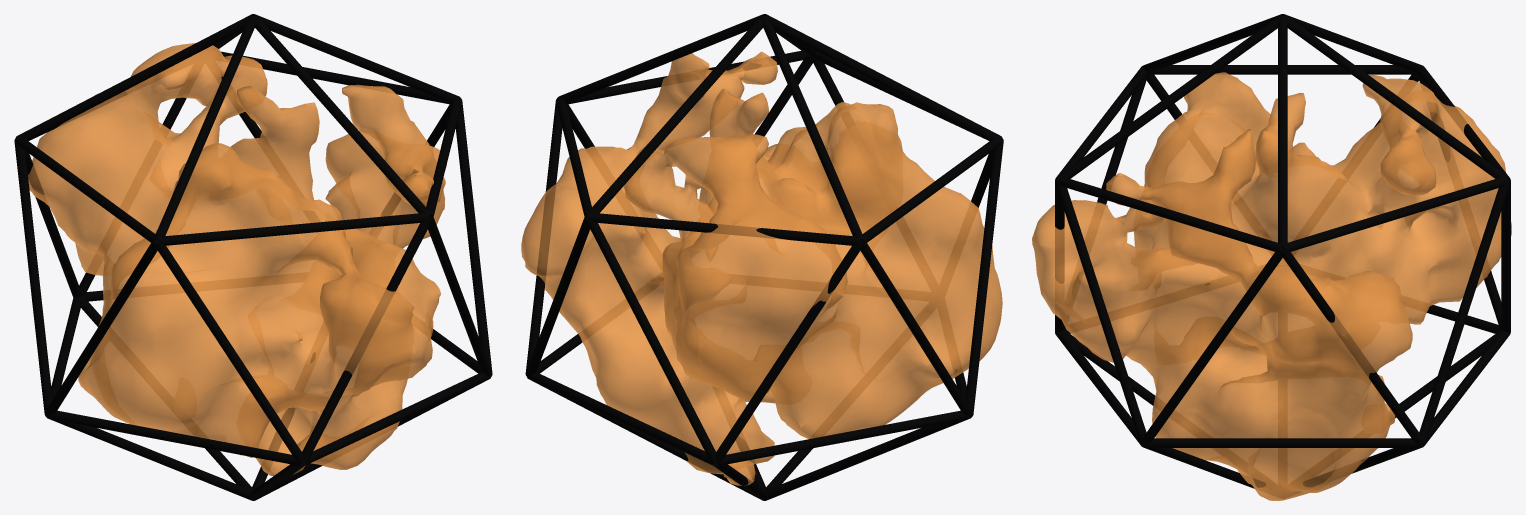
3 renders of one model, left to right at view 1: azimuth 30°, elevation 25°; view 2: azimuth 150°, elevation 25°; view 3: azimuth 270°, elevation 25°, orthographic.
Visible parts, largest first — view 1: energy _Gew_0, energy _Base_0; view 2: energy _Gew_0, energy _Base_0; view 3: energy _Gew_0, energy _Base_0.
Part boxes in pixels (bbox=[...]): energy _Gew_0: bbox=[28, 43, 446, 476]; energy _Base_0: bbox=[14, 14, 492, 500]; energy _Gew_0: bbox=[521, 51, 1002, 485]; energy _Base_0: bbox=[525, 14, 1003, 500]; energy _Gew_0: bbox=[1032, 72, 1511, 500]; energy _Base_0: bbox=[1055, 14, 1510, 488].
Size of the model in its own units: 1.5 by 1.67 by 1.5.
